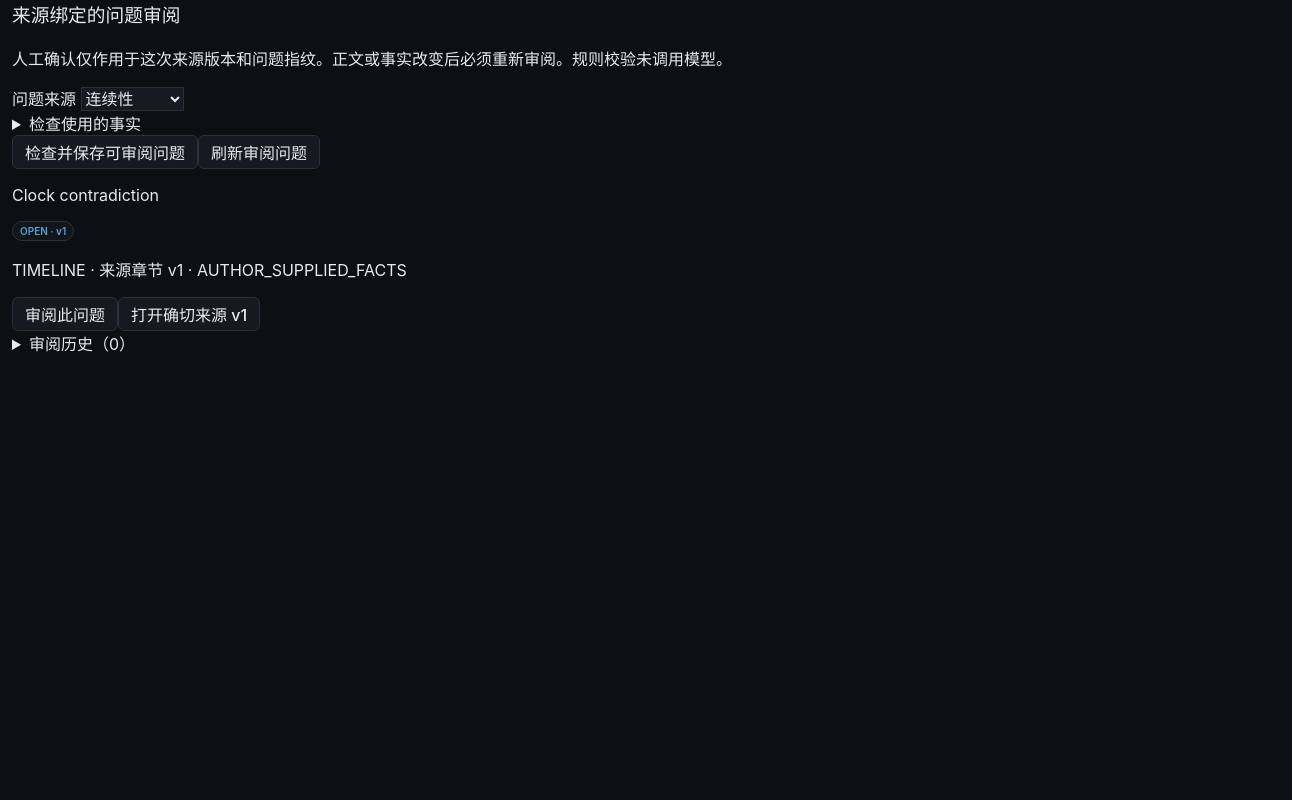
it: source-bound finding review › preserves review reason on conflict and does not retry automatically
Click the button "审阅此问题" at (65, 314), box [12,297,118,331]
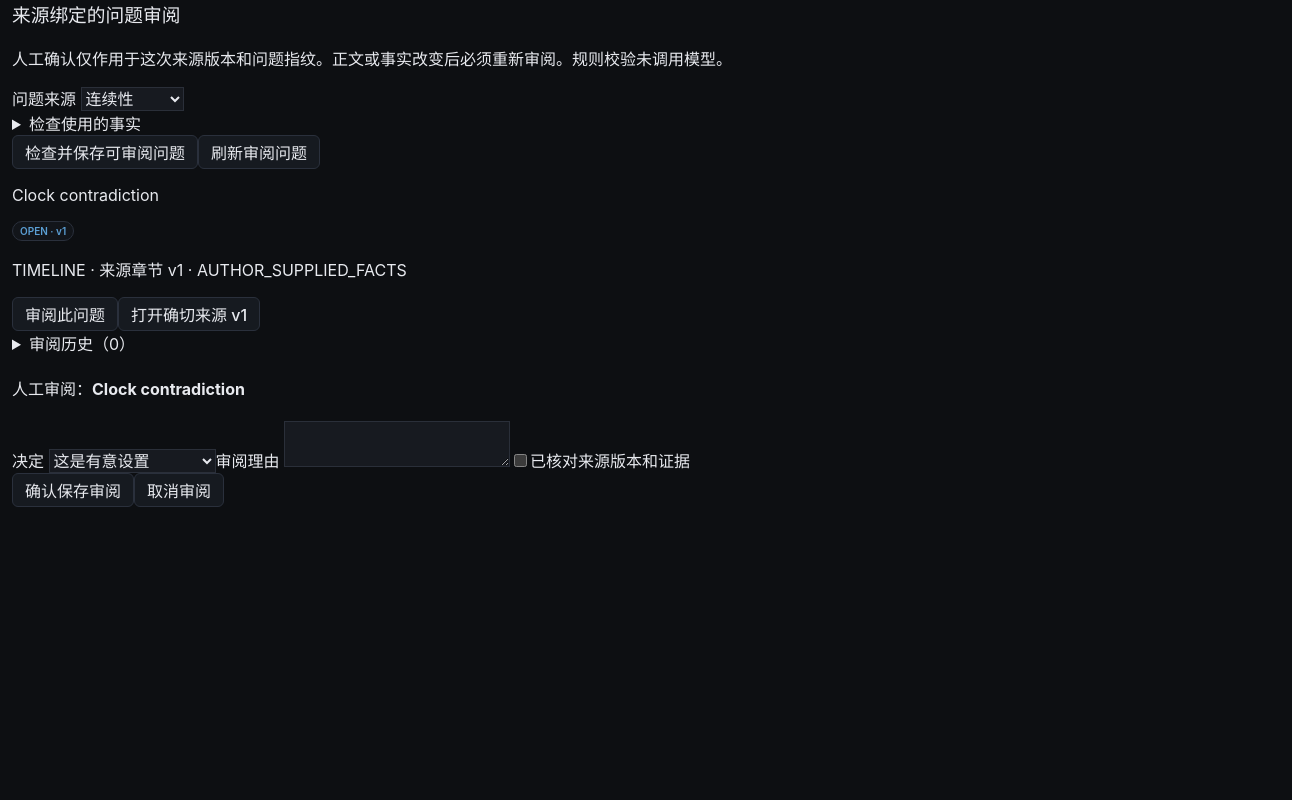
Type "Keep this draft" into the text box labelled "审阅理由" at (397, 444), box [284,421,510,467]
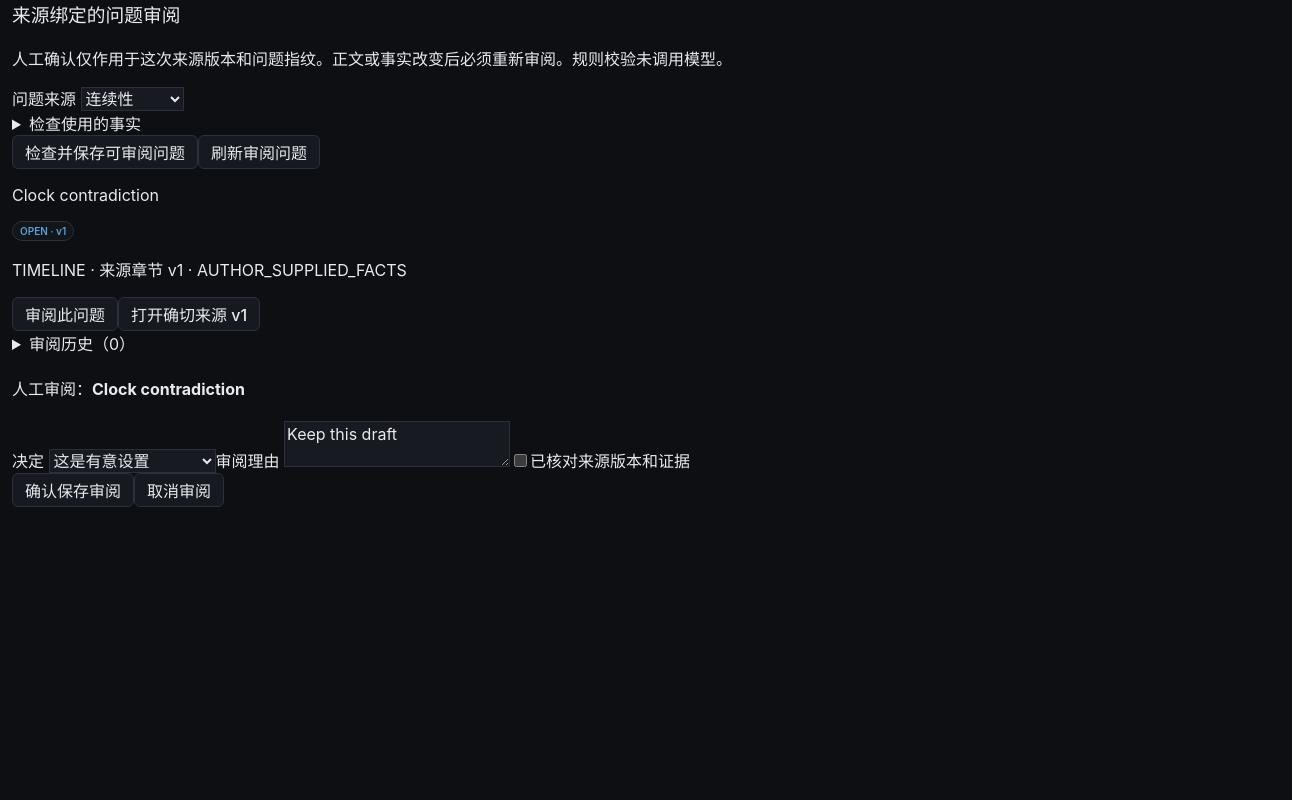
Click the checkbox labelled "已核对来源版本和证据" at (520, 461), box [514,454,527,467]
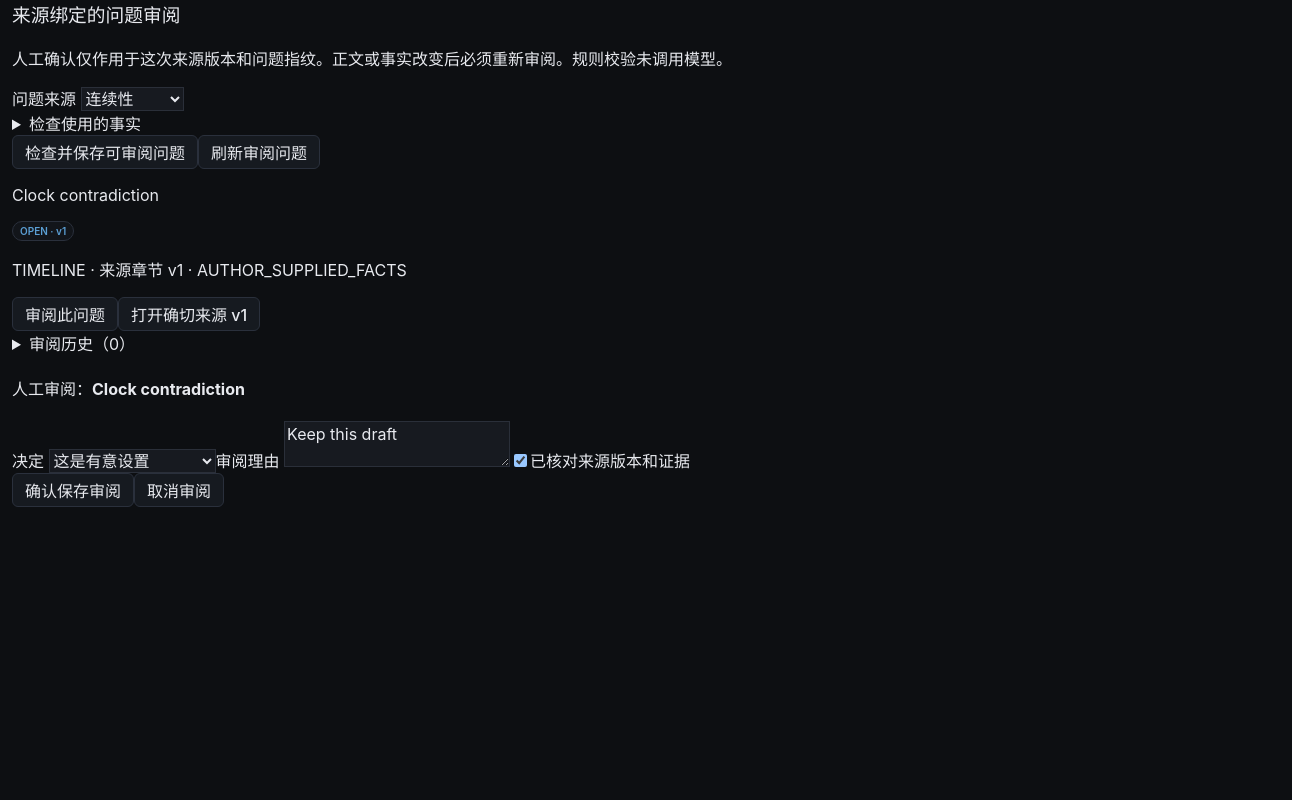
Click the button "确认保存审阅" at (73, 490), box [12,473,134,507]
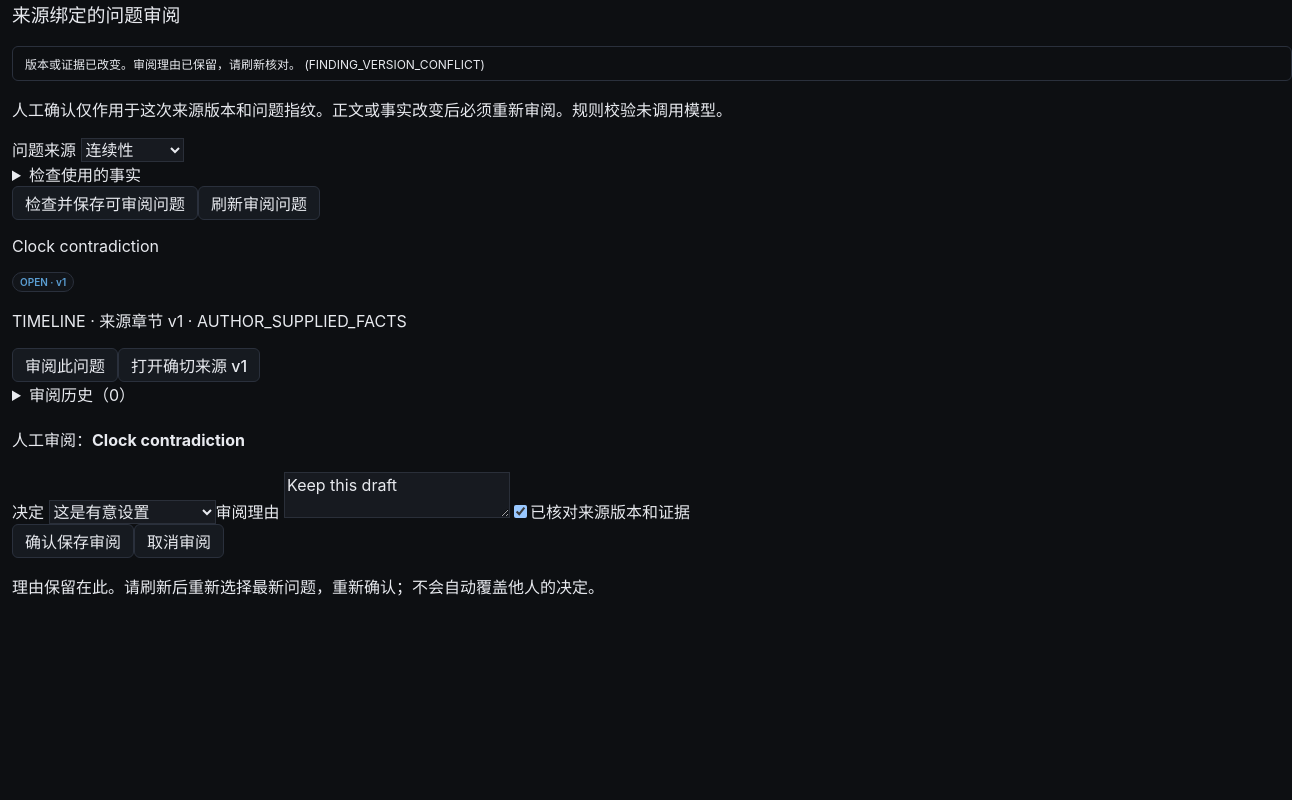
Expected: the message "版本或证据已改变。审阅理由已保留，请刷新核对。 (FINDING_VERSION_CONFLICT)" is shown, [12,46,1291,81]
